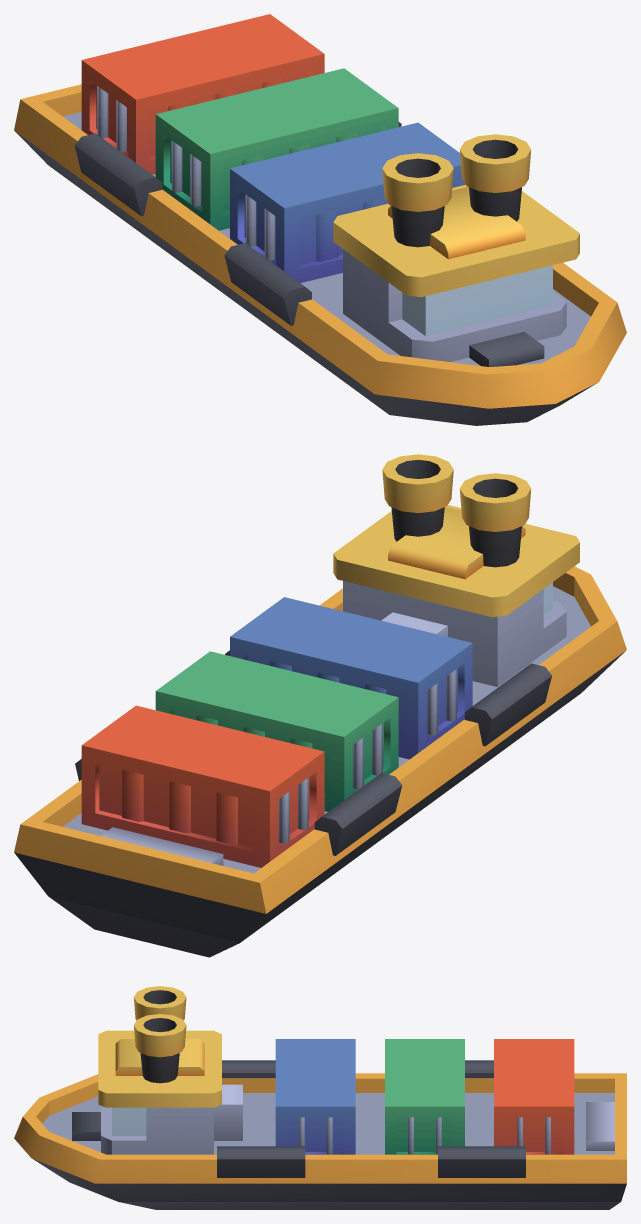
Rendered from k-watercraft-ship-cargo-a.glb.
3 renders of one model, top to bottom at view 1: azimuth 30°, elevation 25°; view 2: azimuth 150°, elevation 25°; view 3: azimuth 270°, elevation 25°, orthographic. The views are drawn at different scales.
Visible parts, largest first — view 1: ship-cargo-a, cargo-b, cargo-c, cargo-a; view 2: ship-cargo-a, cargo-c, cargo-a, cargo-b; view 3: ship-cargo-a, cargo-a, cargo-c, cargo-b.
Part boxes in pixels (x1=…): ship-cargo-a: x1=14, y1=84, x2=626, y2=425; cargo-b: x1=155, y1=68, x2=398, y2=230; cargo-c: x1=81, y1=14, x2=324, y2=174; cargo-a: x1=230, y1=122, x2=465, y2=282; ship-cargo-a: x1=14, y1=454, x2=626, y2=957; cargo-c: x1=81, y1=705, x2=324, y2=867; cargo-a: x1=230, y1=597, x2=472, y2=759; cargo-b: x1=155, y1=651, x2=398, y2=811; ship-cargo-a: x1=14, y1=986, x2=626, y2=1209; cargo-a: x1=275, y1=1039, x2=355, y2=1154; cargo-c: x1=494, y1=1039, x2=574, y2=1154; cargo-b: x1=385, y1=1039, x2=464, y2=1154.
Size of the model in its own units: 3.92 by 3.38 by 10.55.
Materials: 1 (1 with a texture image).
